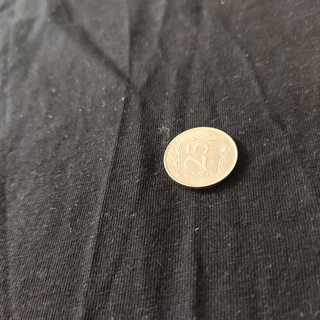25KURUS: (161, 125, 238, 189)
